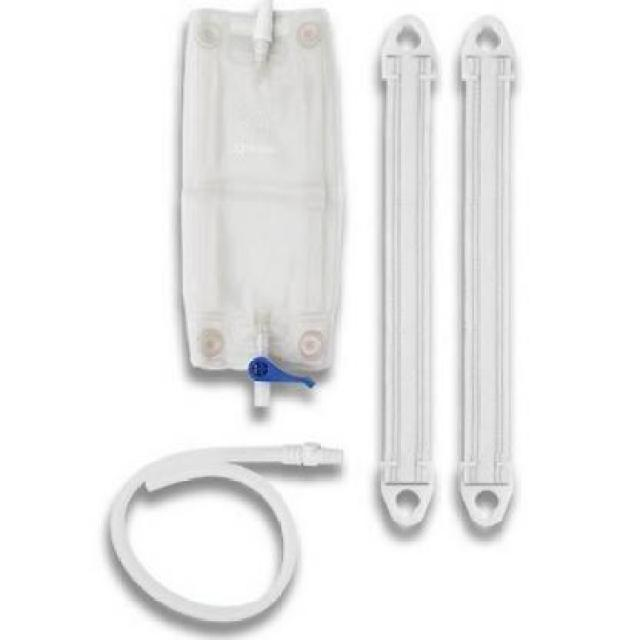B3: (158, 4, 350, 418)
